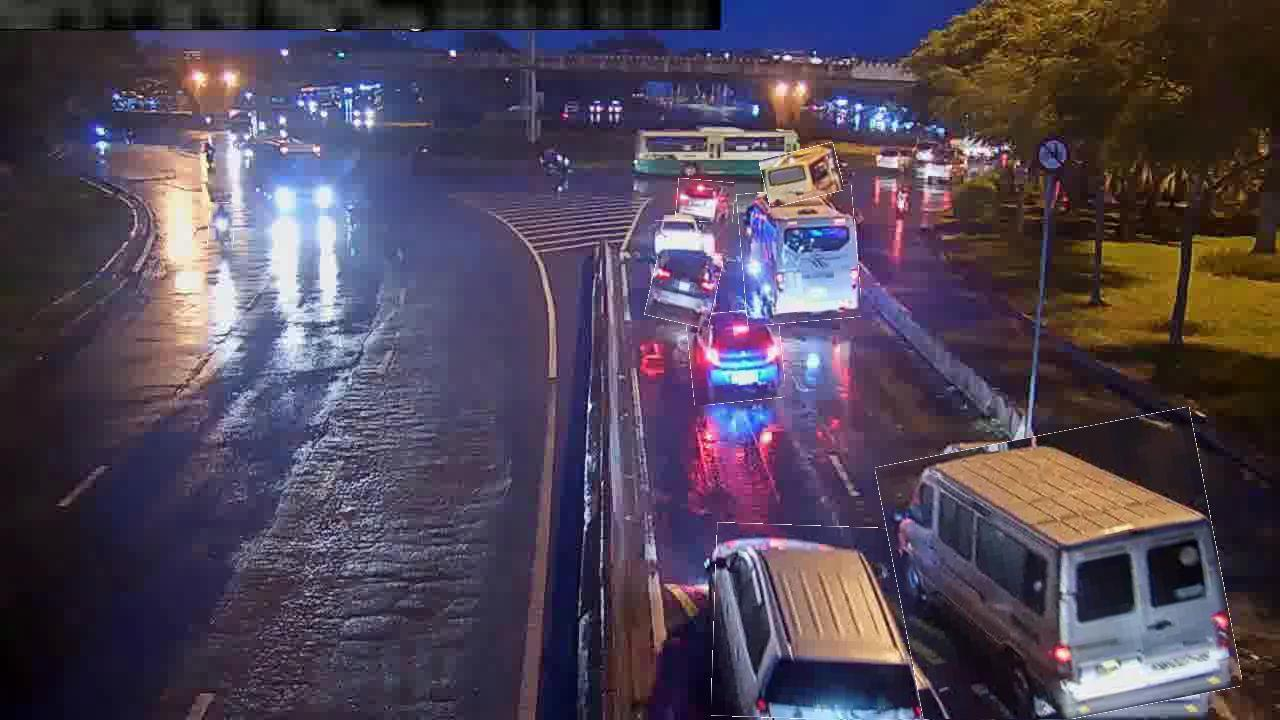14: (887, 421, 1232, 719), (739, 188, 860, 324), (762, 146, 842, 203)
container: (712, 524, 926, 719), (688, 310, 784, 404), (648, 244, 721, 325), (655, 220, 725, 257), (676, 179, 735, 222)
motorbike: (208, 203, 235, 249)
